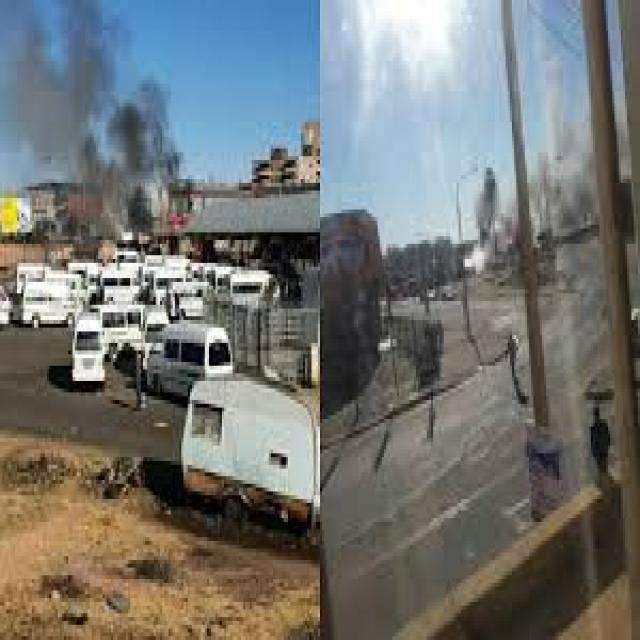MiniBus taxi: (145, 320, 235, 411), (70, 312, 107, 385), (19, 278, 75, 324)
